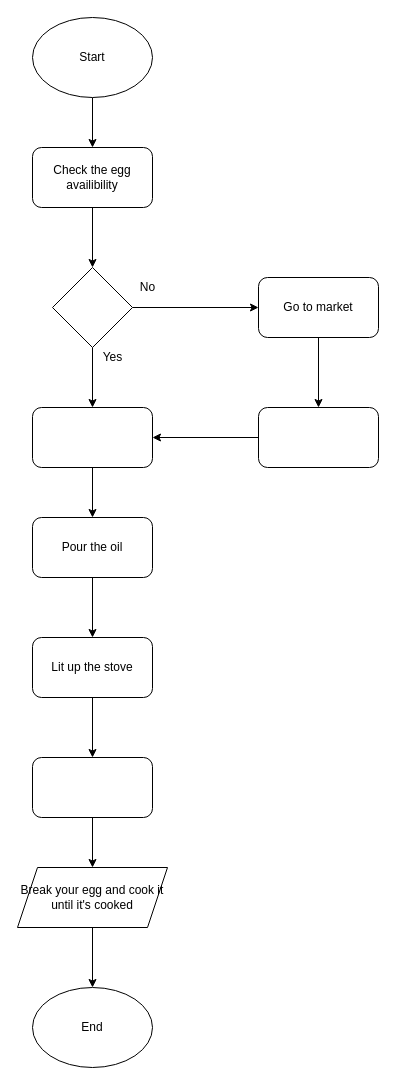
This 396x1085 diagram has some shape labels left out. Each missing label, with the centre of its shape:
Buy the egg: the point at 318,437
Is egg exist?: the point at 92,307
Prepare the frying: the point at 92,437
Wait until the oil's getting hot: the point at 92,787
